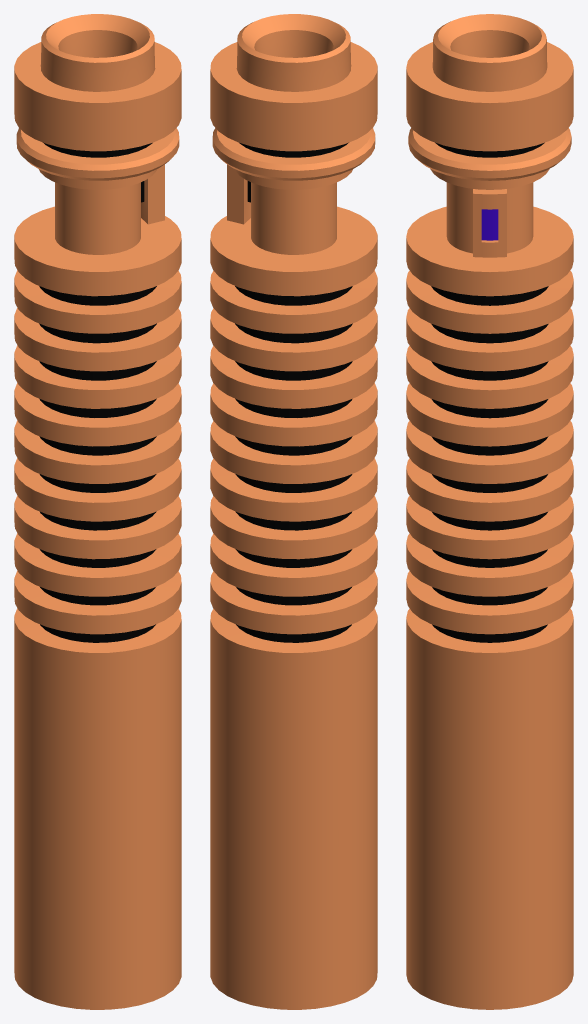
The model's file is клинок 2.fbx.
3 views of the same model, side by side, from view 1: azimuth 30°, elevation 25°; view 2: azimuth 150°, elevation 25°; view 3: azimuth 270°, elevation 25° (orthographic).
Visible parts, largest first — view 1: Цилиндр; view 2: Цилиндр; view 3: Цилиндр.
Part boxes in pixels (left/top/right/bottom): Цилиндр: left=14, top=14, right=181, bottom=1009; Цилиндр: left=210, top=14, right=377, bottom=1009; Цилиндр: left=406, top=14, right=573, bottom=1009.
Bounding box in the file's own units: 4.1 × 25.36 × 4.1.
